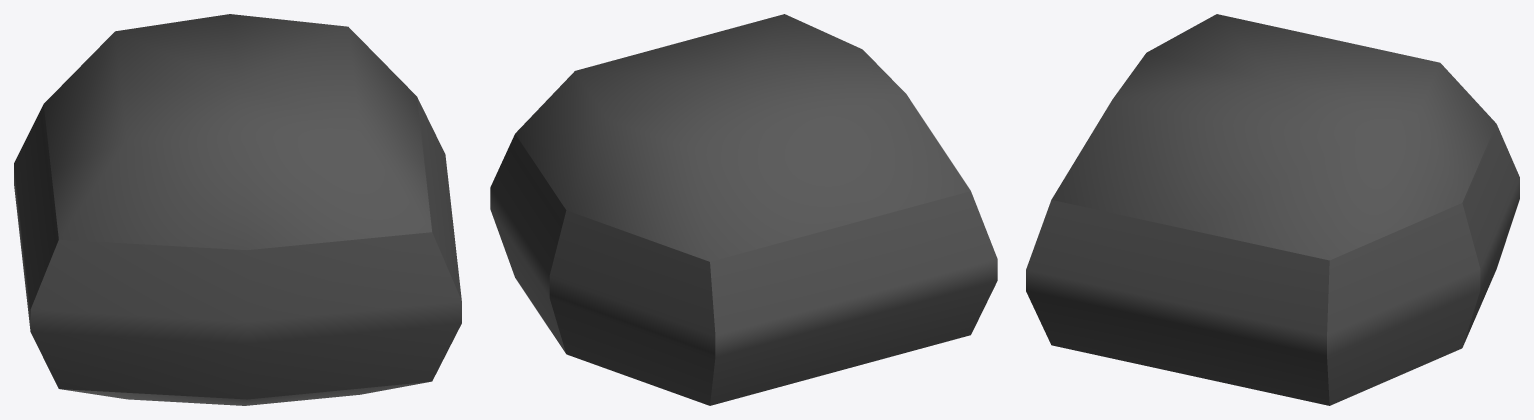
File: rock02_text.fbx
The picture shows the model from 3 angles, left to right: view 1: azimuth 30°, elevation 25°; view 2: azimuth 150°, elevation 25°; view 3: azimuth 270°, elevation 25°; orthographic projection. The views are drawn at different scales.
Visible parts, largest first — view 1: rock01; view 2: rock01; view 3: rock01.
Part boxes in pixels (x1,y1,x2,y2): rock01: [14, 14, 461, 405]; rock01: [490, 14, 997, 405]; rock01: [1026, 14, 1519, 405].
Bounding box in the file's own units: 11.31 × 5.95 × 10.55.
1 material, 1 textured.
